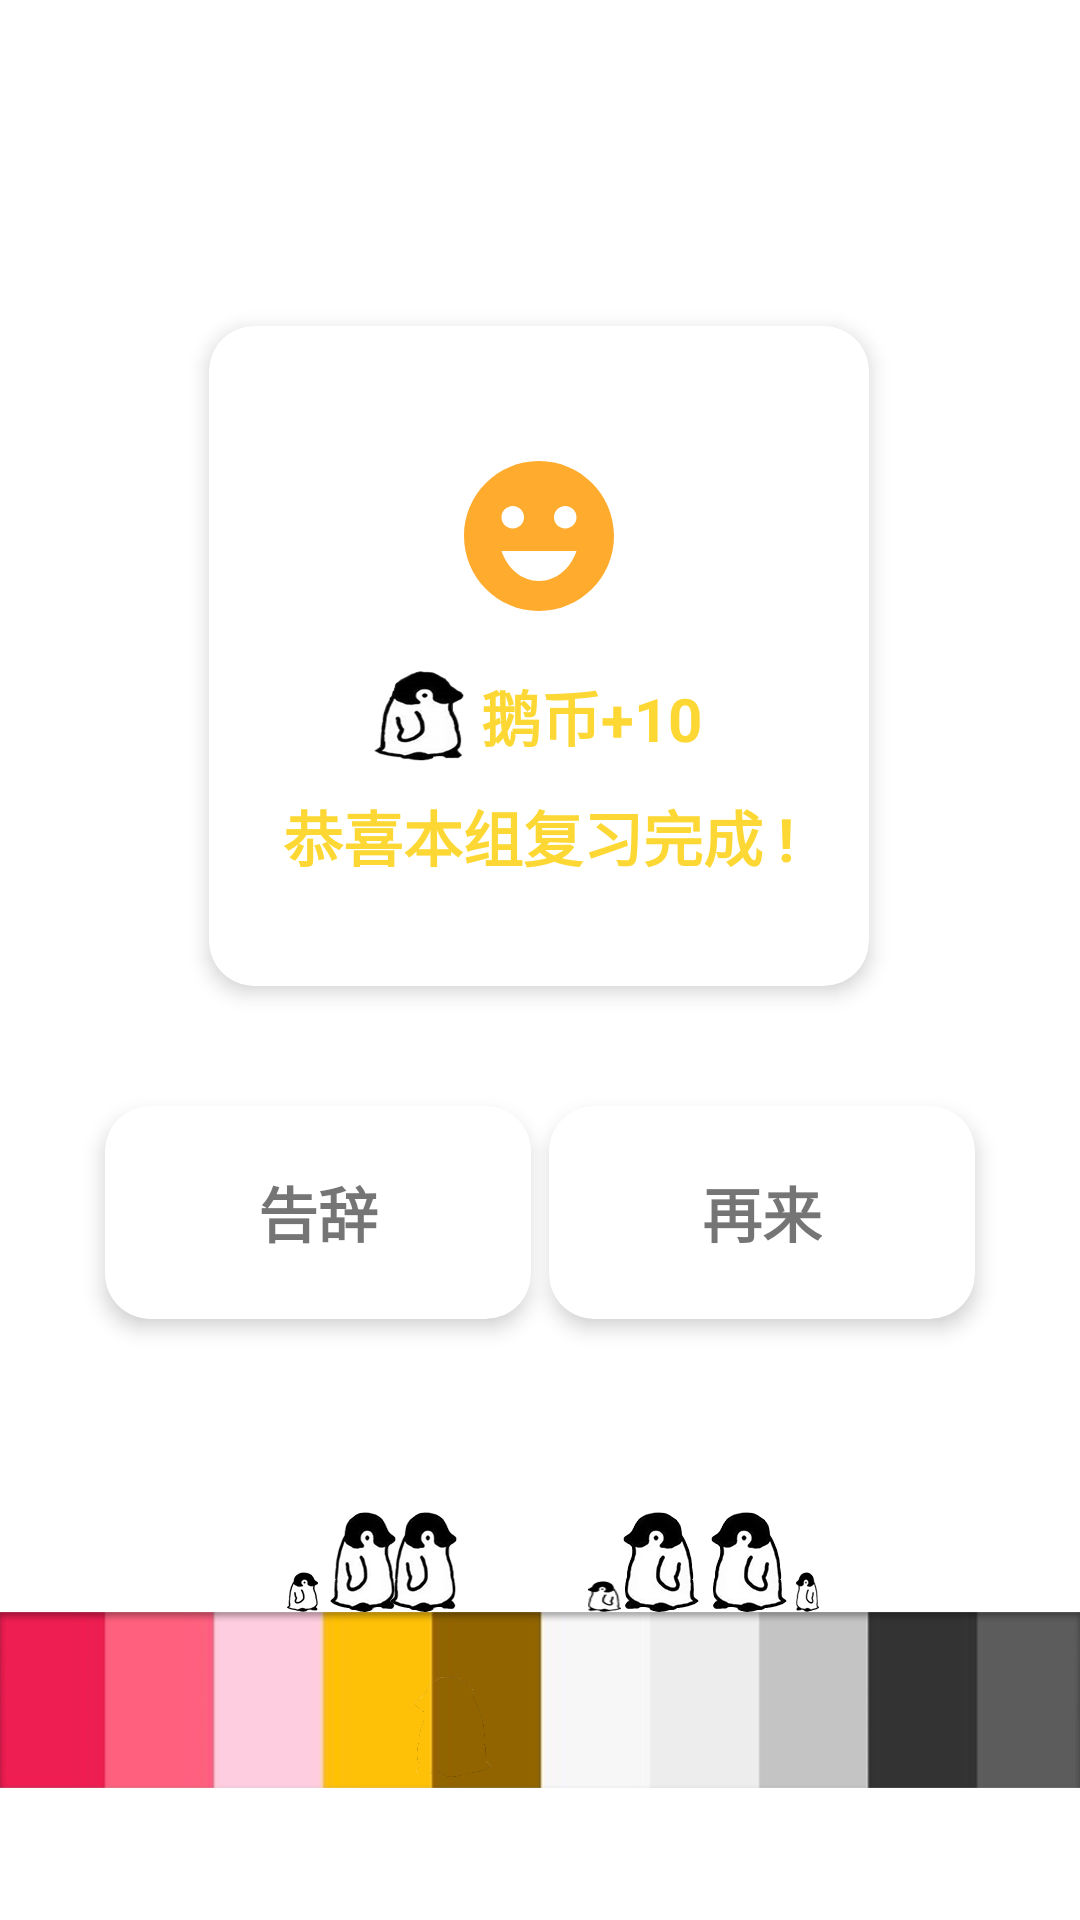

Screen size 1080x1920. Icon name, then its center in pixels as (x=x, y=y):
emoji emotions: (x=539, y=536)
qie: (x=419, y=716)
